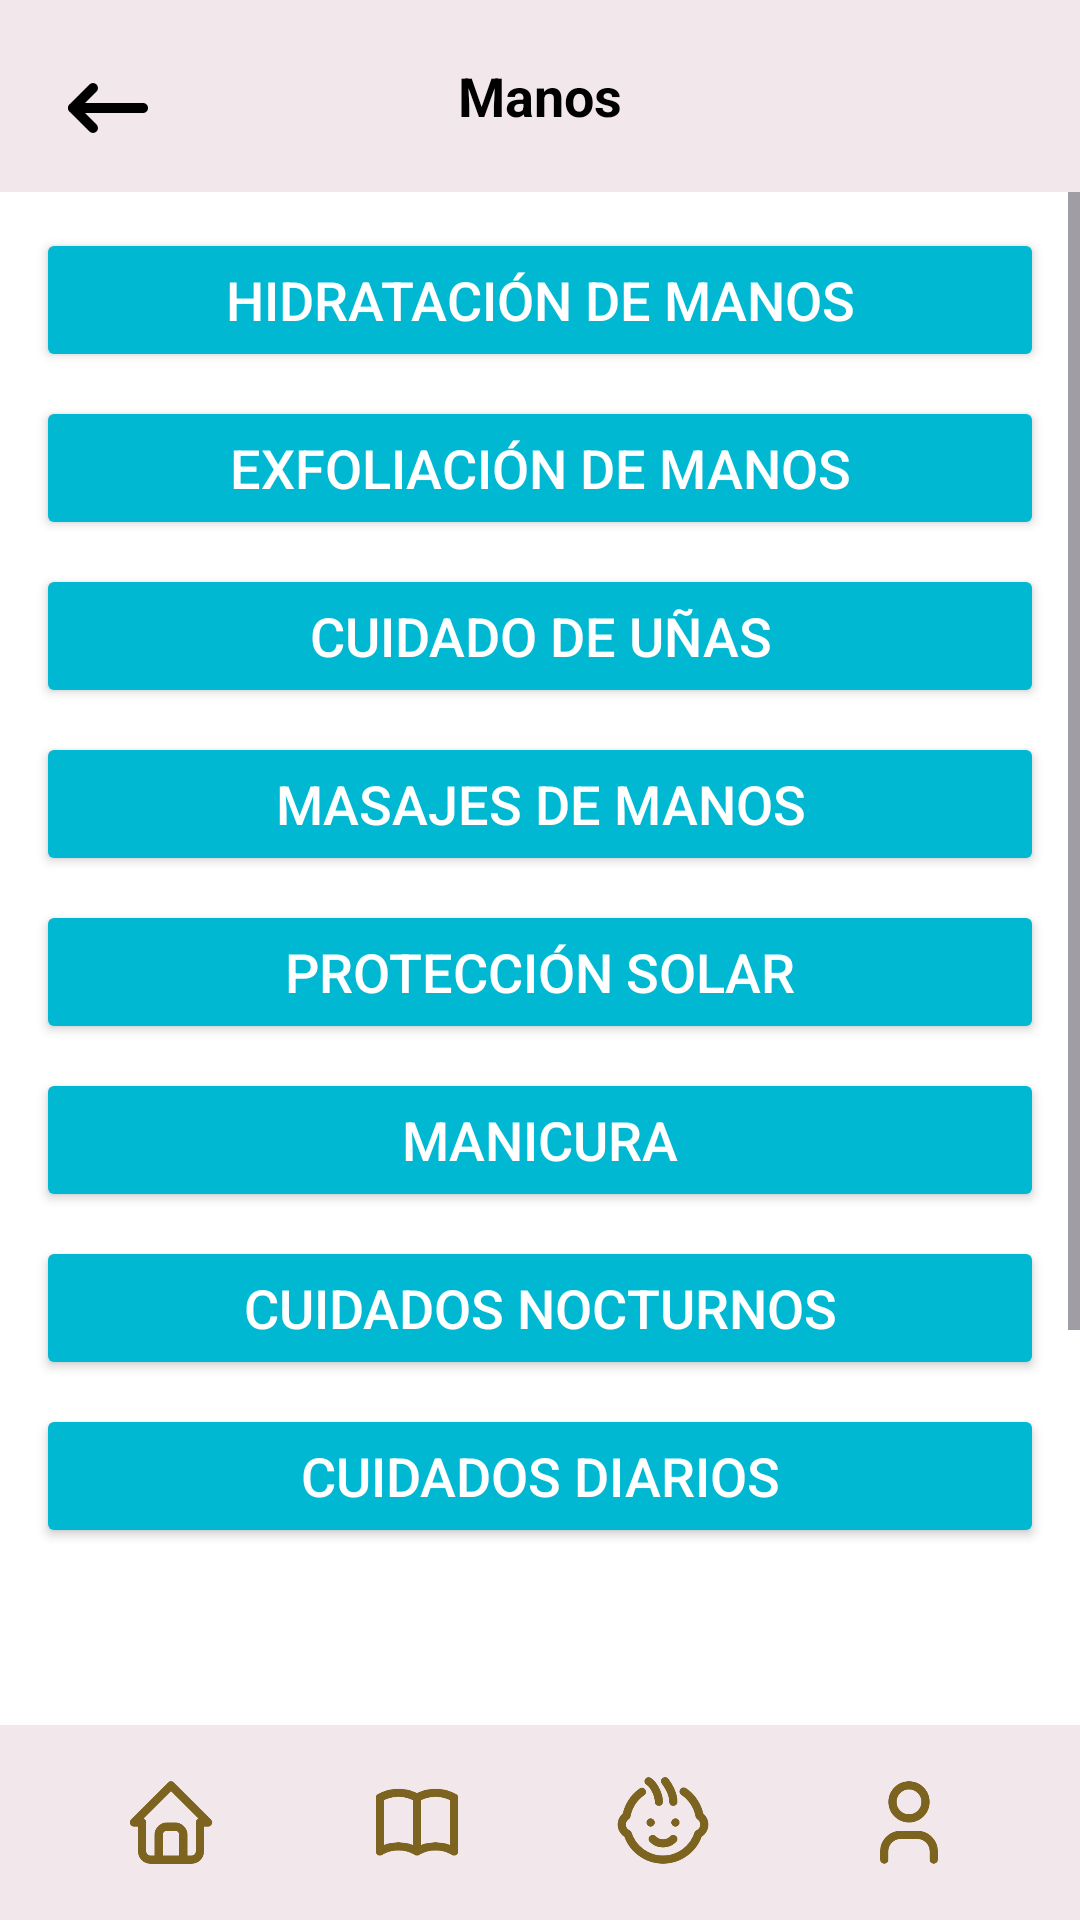

Icons on this 1080px×1920px Android screen, each with the point to tap as (x=x, y=y):
book: (x=417, y=1822)
home: (x=171, y=1822)
moodboy: (x=663, y=1820)
personaa: (x=909, y=1822)
